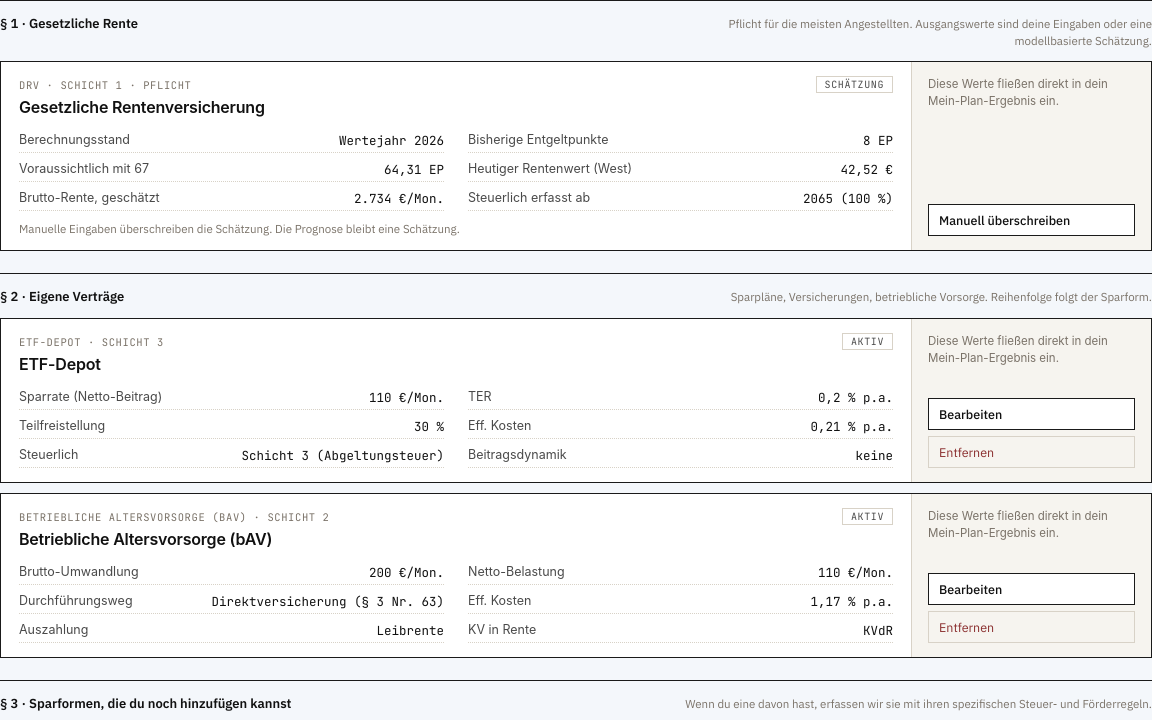
Test: ProdukteEingabenPanel — § 2 contract rows › clicking "Bearbeiten" opens the inline disclosure for the row
Click the button "Bearbeiten" next to "0,2 % p.a.": (1032, 414) [928,398,1135,430]
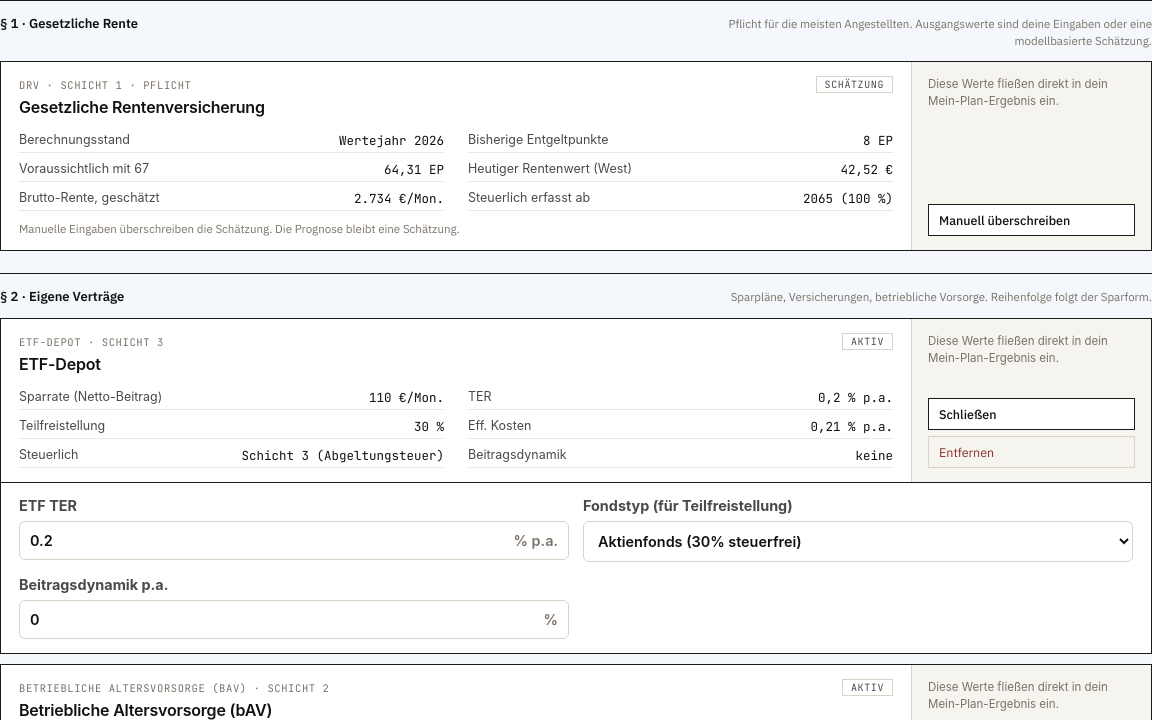
Expected: the element with test id "produkte-edit-disclosure-etf" is shown, [0,483,1151,654]
